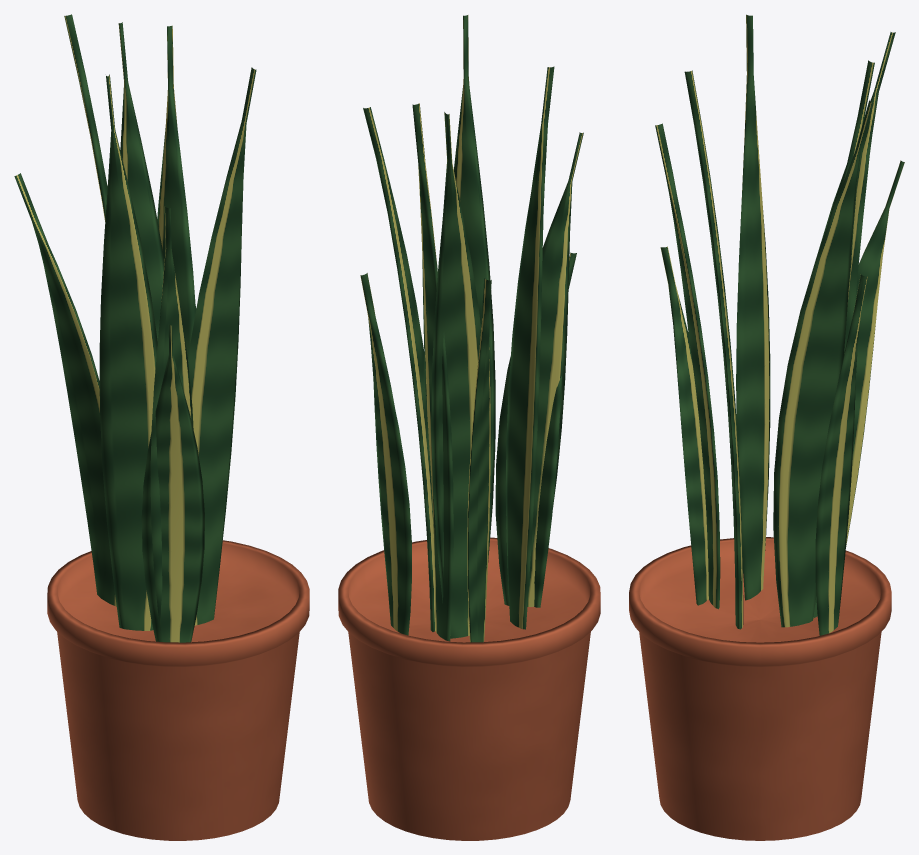
3 views of the same model, side by side, from view 1: azimuth 30°, elevation 25°; view 2: azimuth 150°, elevation 25°; view 3: azimuth 270°, elevation 25° (orthographic).
Visible parts, largest first — view 1: Snake plant in a pot; view 2: Snake plant in a pot; view 3: Snake plant in a pot.
Part boxes in pixels (x1,y1,x2,y2): Snake plant in a pot: [14, 14, 309, 840]; Snake plant in a pot: [338, 15, 600, 840]; Snake plant in a pot: [629, 14, 904, 840].
Bounding box in the file's own units: 0.26 × 0.8166 × 0.2731.
2 materials, 2 textured.
